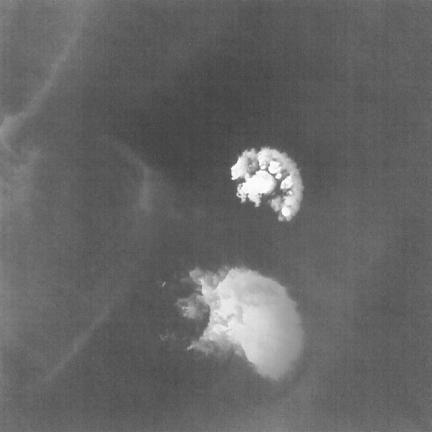flukeprints: (177, 267, 303, 381), (231, 148, 303, 221)
